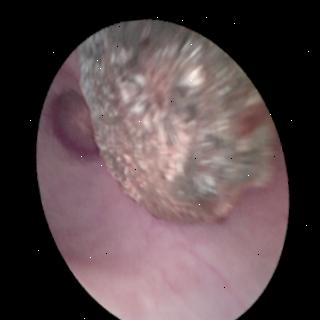stone: (80, 22, 273, 222)
tissue: (39, 66, 284, 320)
